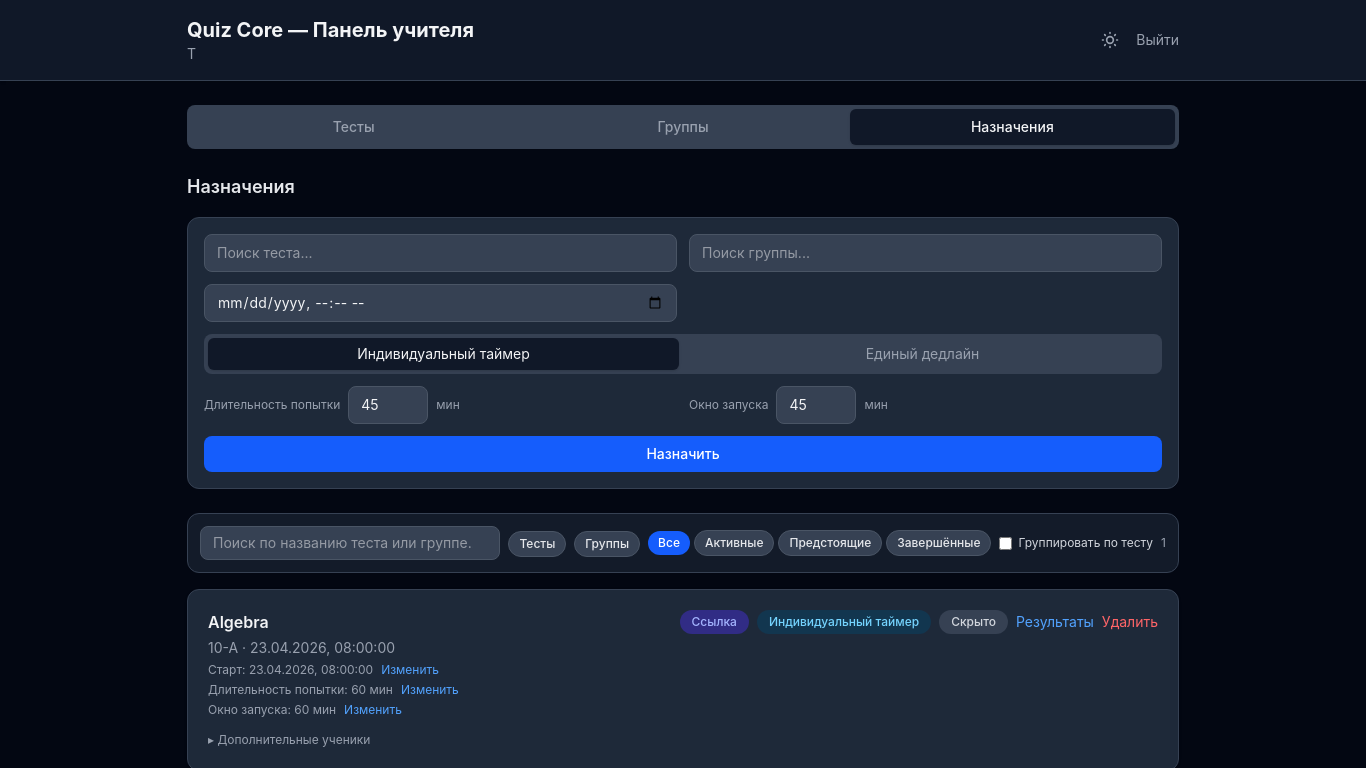
it: TeacherDashboard shared_deadline mode › clicking the mode pill flips shared_deadline via the API
Click the button "Индивидуальный таймер": [844, 622] box x1=757 y1=610 x2=931 y2=634
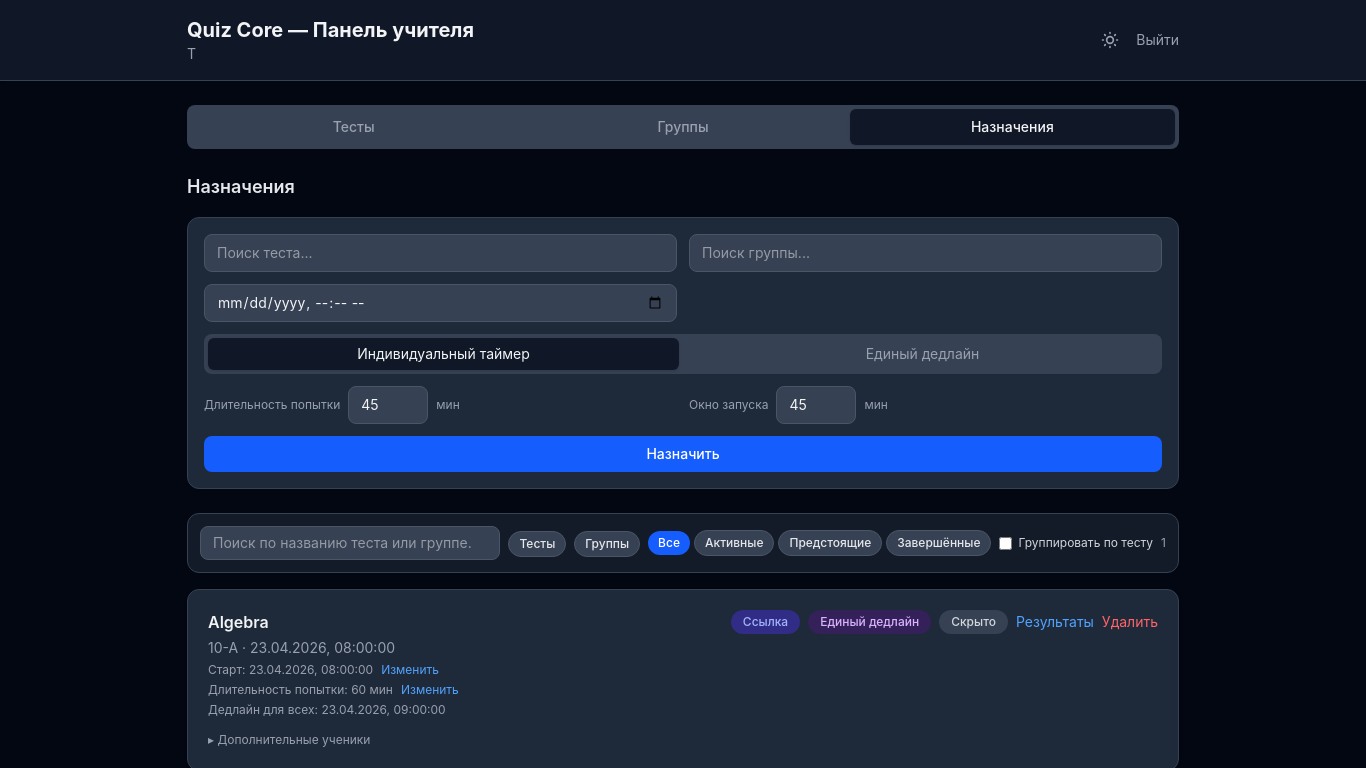
Expected: the button "Единый дедлайн" is shown, x1=808 y1=610 x2=931 y2=634
